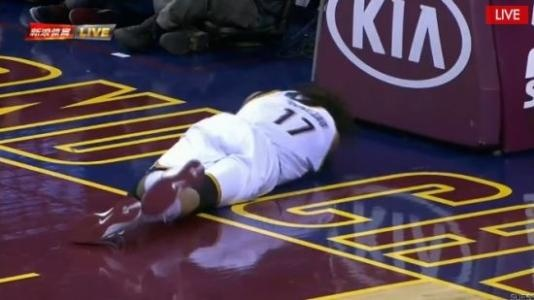falling: (76, 68, 344, 259)
